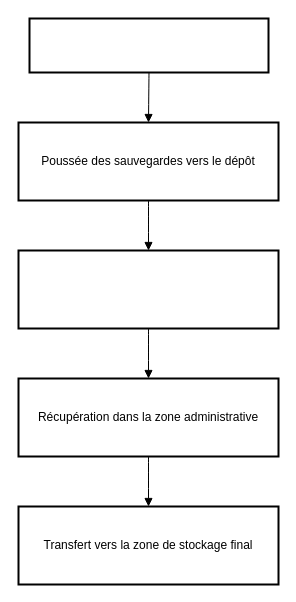
The diagram is 296 pixels wide and 602 high, and some of its shapes have lost their labels. The centre of each missing label's shape, as x and y in pixels:
Création du dépôt GitLab: pixel 148 45
Vérification/restauration sur MoodleBox universitaire: pixel 148 289
